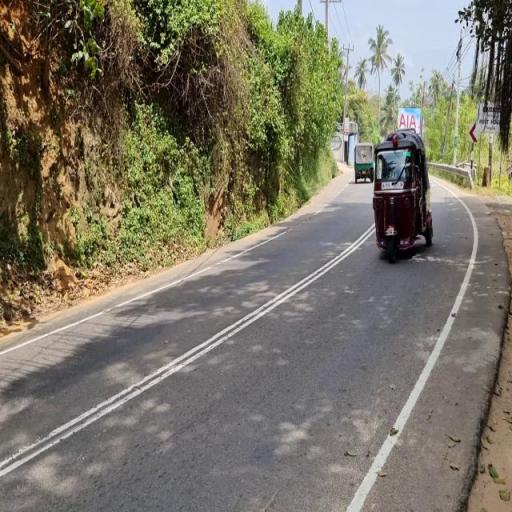double_white_line: (0, 208, 383, 482)
